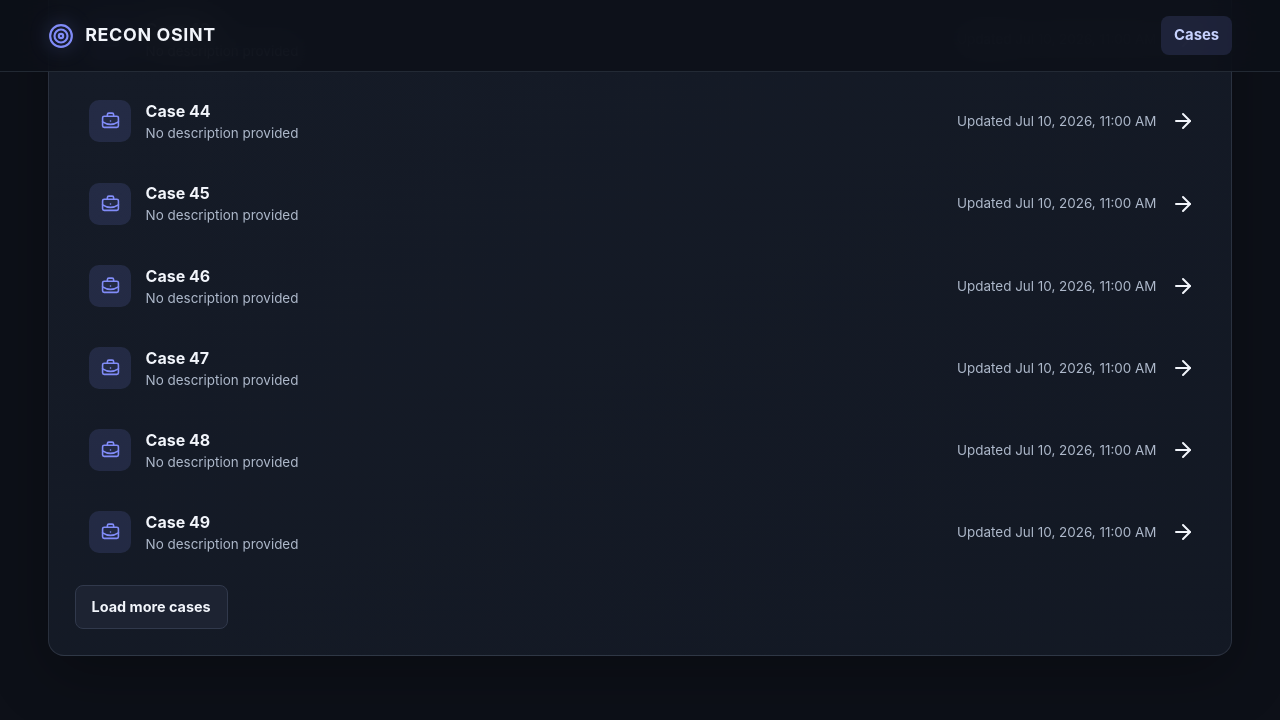
it: case history › loads additional case-history pages without replacing existing rows
The image size is (1280, 720).
(page scrolled)
Click the button "Load more cases" at (151, 607), box [75, 585, 228, 629]
(page scrolled)
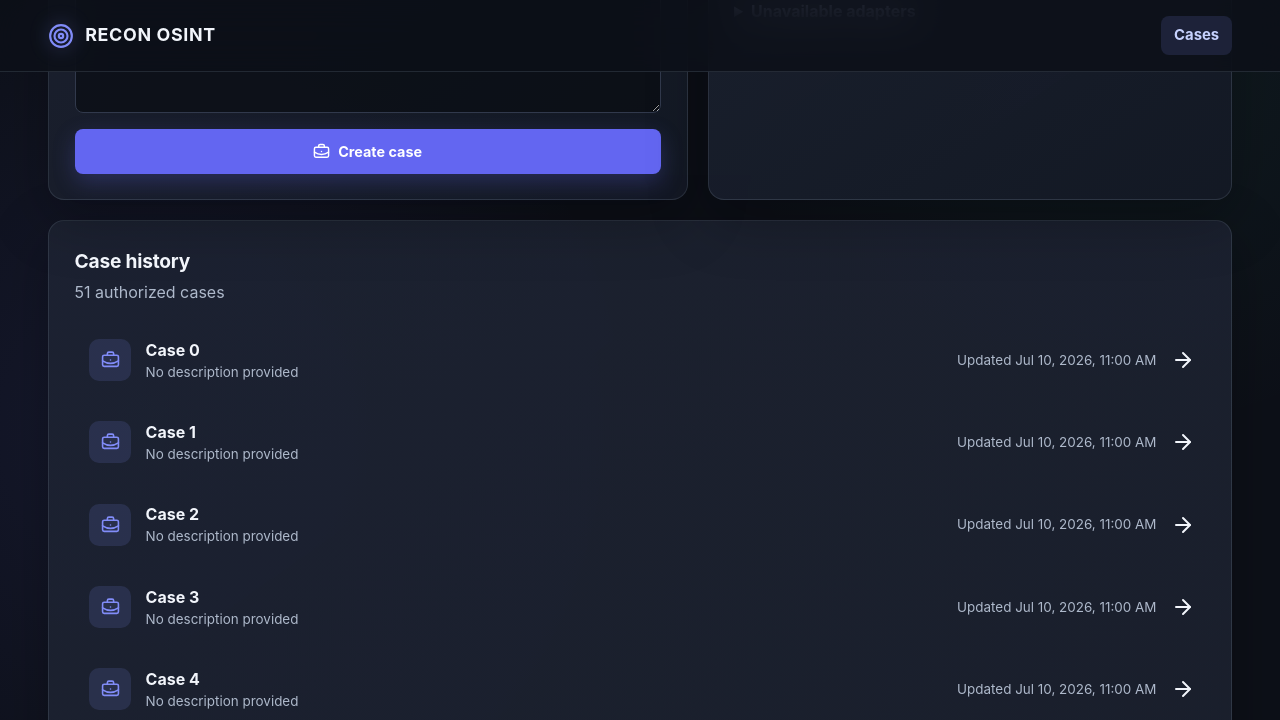
Expected: the link "Case 0" is shown, [89, 339, 1195, 381]
Expected: the button "Load more cases" is gone
